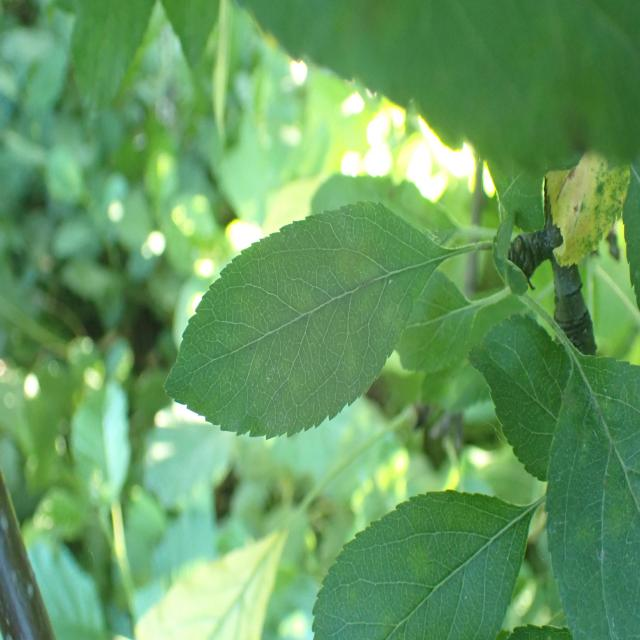scab: (200, 243, 415, 394), (522, 318, 640, 529)
